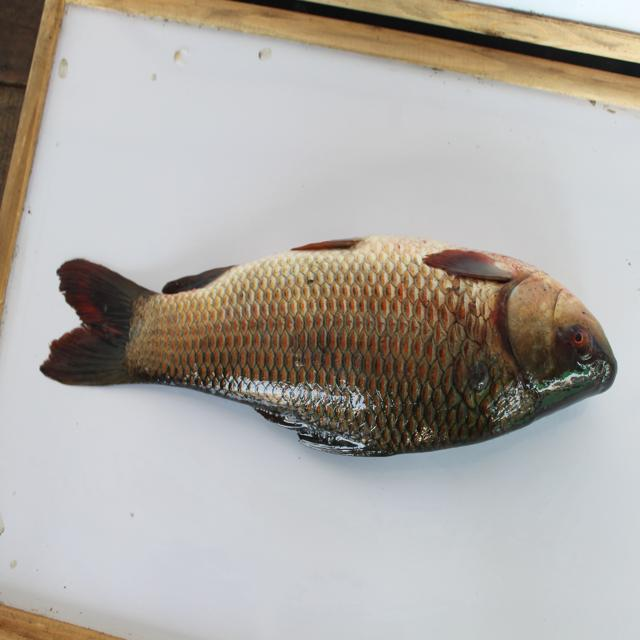Rohu: (36, 233, 619, 449)
